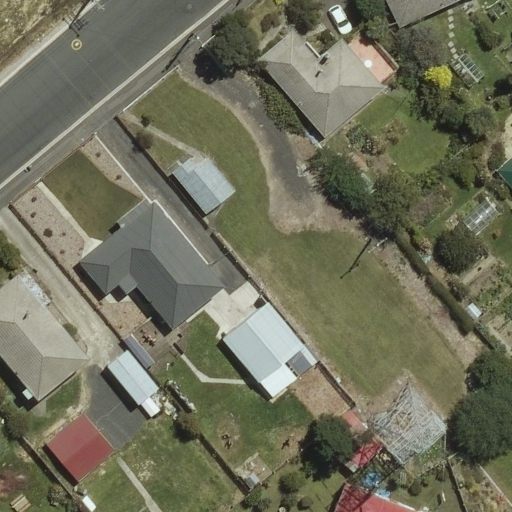TT: (369, 375, 450, 460), (354, 223, 393, 261), (184, 22, 222, 57), (78, 1, 111, 21)
